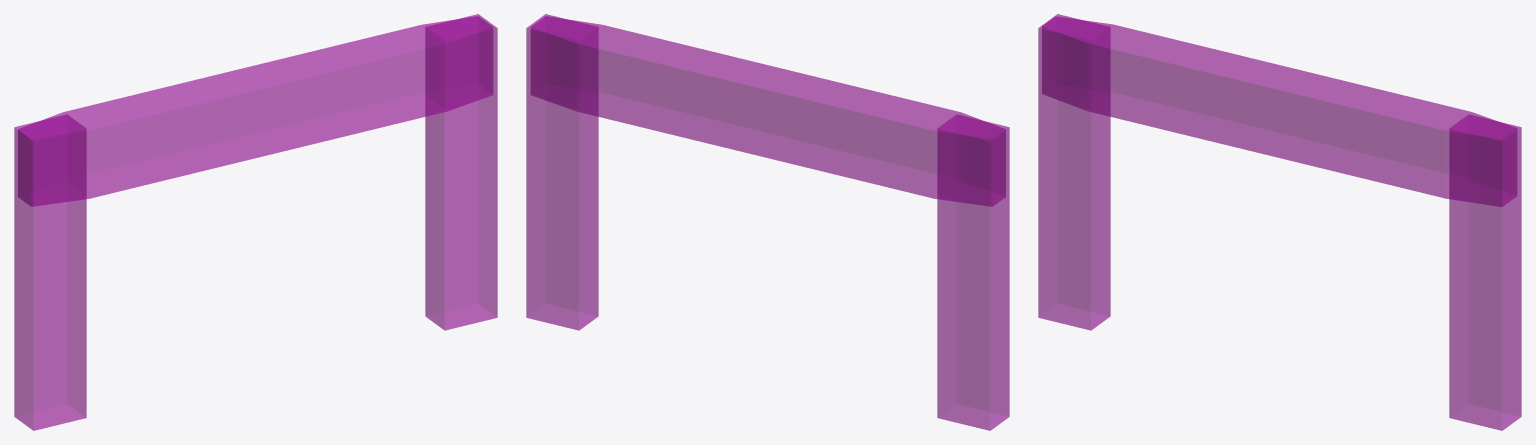
The model's file is SM_Bld_Wall_Door_Barn_01_Collision.fbx.
3 renders of one model, left to right at view 1: azimuth 30°, elevation 25°; view 2: azimuth 150°, elevation 25°; view 3: azimuth 330°, elevation 25°, orthographic.
Parts seen in each view (by area): view 1: SM_Bld_Wall_Door_Barn_01_Collision; view 2: SM_Bld_Wall_Door_Barn_01_Collision; view 3: SM_Bld_Wall_Door_Barn_01_Collision.
Part boxes in pixels (x1,y1,x2,y2): SM_Bld_Wall_Door_Barn_01_Collision: (14, 14, 497, 430); SM_Bld_Wall_Door_Barn_01_Collision: (526, 14, 1009, 430); SM_Bld_Wall_Door_Barn_01_Collision: (1038, 14, 1521, 430).
Size of the model in its own units: 503 by 300 by 48.4.
